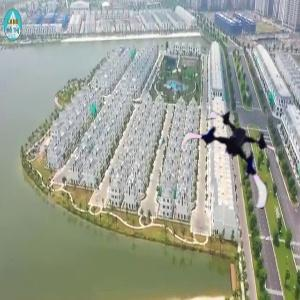drone: (179, 99, 285, 205)
